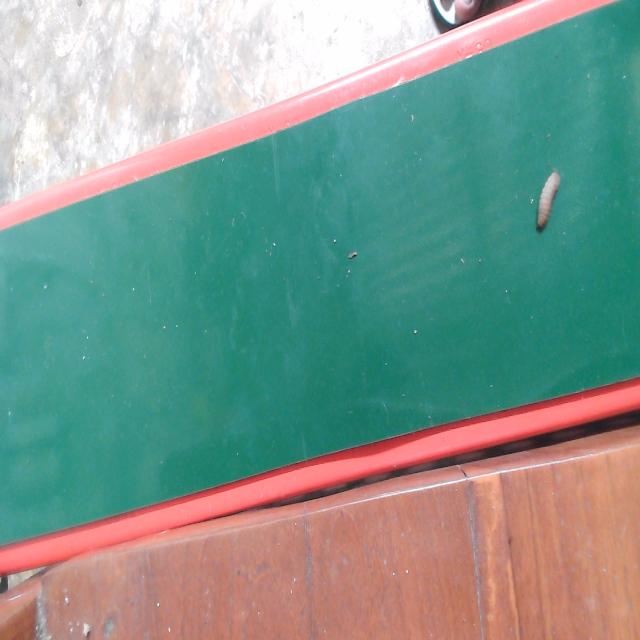Maggot: (535, 169, 563, 236)
